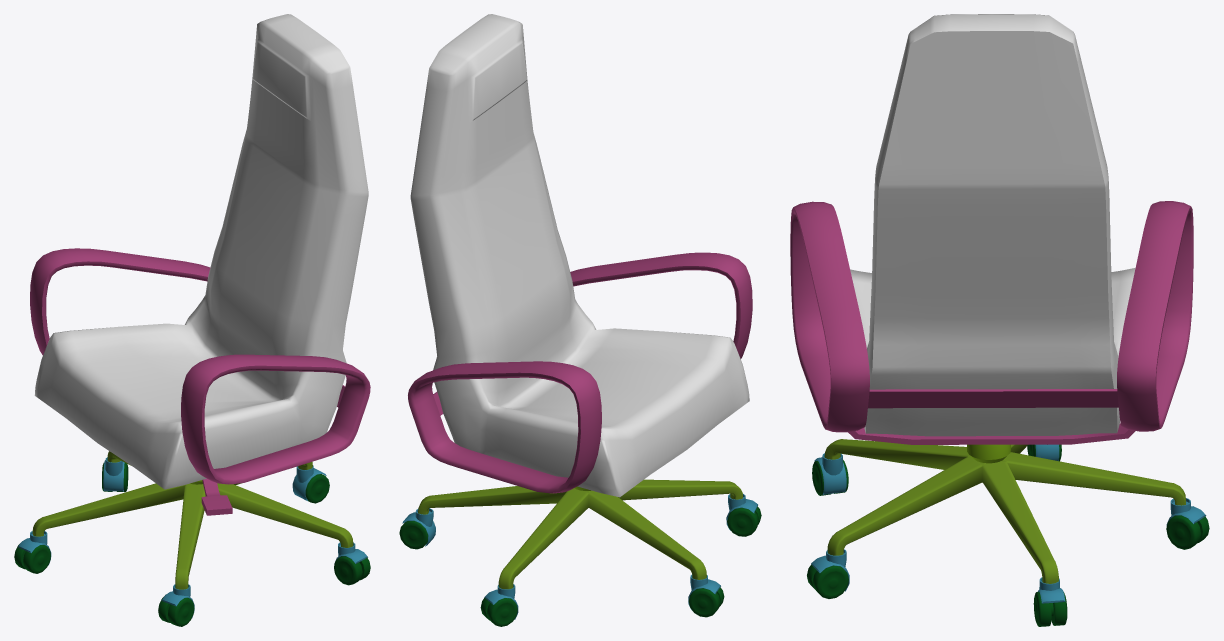
File: office_chair.fbx
The picture shows the model from 3 angles, left to right: view 1: azimuth 30°, elevation 25°; view 2: azimuth 150°, elevation 25°; view 3: azimuth 270°, elevation 25°; orthographic projection. The views are drawn at different scales.
Parts seen in each view (by area): view 1: Office Chair; view 2: Office Chair; view 3: Office Chair.
Part boxes in pixels (x1=…): Office Chair: x1=14, y1=14, x2=370, y2=626; Office Chair: x1=399, y1=14, x2=761, y2=626; Office Chair: x1=790, y1=14, x2=1209, y2=626.
Size of the model in its own units: 100 by 152 by 98.72.
